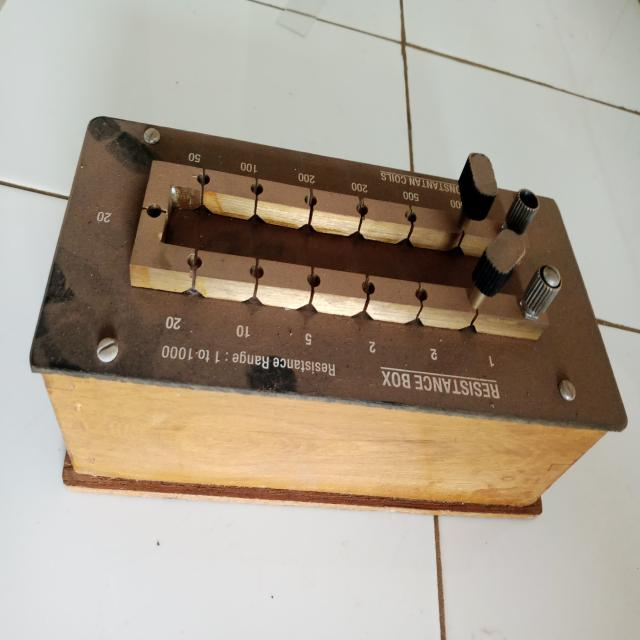Pinned Resistance Box: (23, 86, 619, 544)
